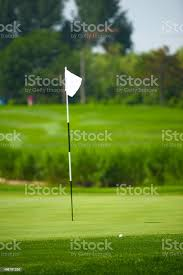Flag: (64, 68, 83, 98)
